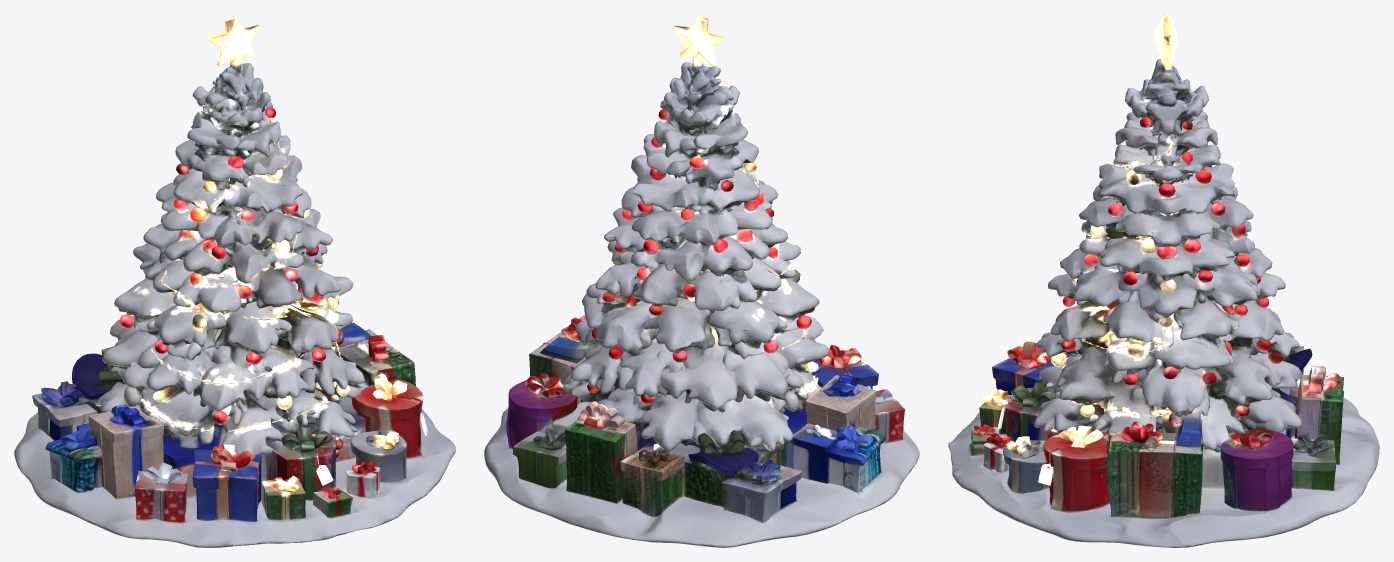
File: tree.glb
The picture shows the model from 3 angles, left to right: view 1: azimuth 30°, elevation 25°; view 2: azimuth 150°, elevation 25°; view 3: azimuth 270°, elevation 25°; orthographic projection.
Visible parts, largest first — view 1: model; view 2: model; view 3: model.
Part boxes in pixels (box(x1,y1,x2,y2)): model: box(14, 14, 455, 547); model: box(484, 14, 919, 547); model: box(948, 14, 1379, 547).
Size of the model in its own units: 1.71 by 1.9 by 1.67.
1 material, 1 textured.
